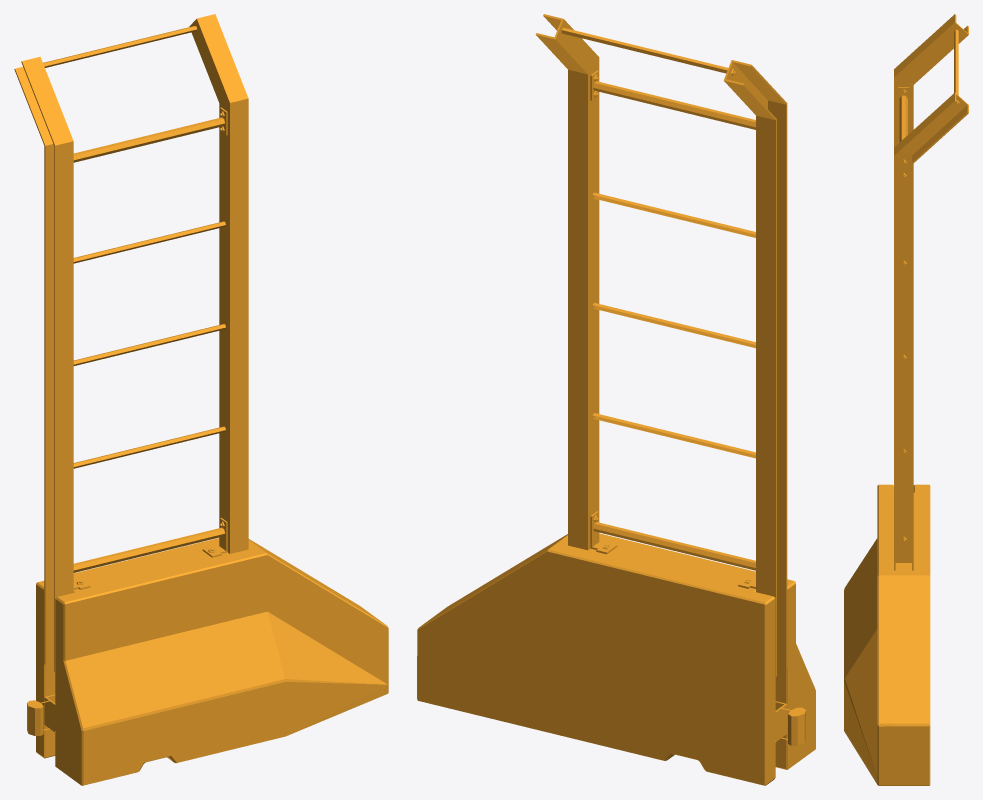
File: SM_Fence_Road_Debrisguard_Bar_2m_R.fbx
The picture shows the model from 3 angles, left to right: view 1: azimuth 30°, elevation 25°; view 2: azimuth 150°, elevation 25°; view 3: azimuth 270°, elevation 25°; orthographic projection. The views are drawn at different scales.
Parts seen in each view (by area): view 1: SM_Fence_Road_Debrisguard_Bar_2m_R; view 2: SM_Fence_Road_Debrisguard_Bar_2m_R; view 3: SM_Fence_Road_Debrisguard_Bar_2m_R.
Boxes of the visible parts, bbox=[...] form: SM_Fence_Road_Debrisguard_Bar_2m_R: bbox=[14, 14, 388, 785]; SM_Fence_Road_Debrisguard_Bar_2m_R: bbox=[417, 14, 815, 785]; SM_Fence_Road_Debrisguard_Bar_2m_R: bbox=[844, 14, 968, 785].
Size of the model in its own units: 2.13 by 4 by 0.7223.
